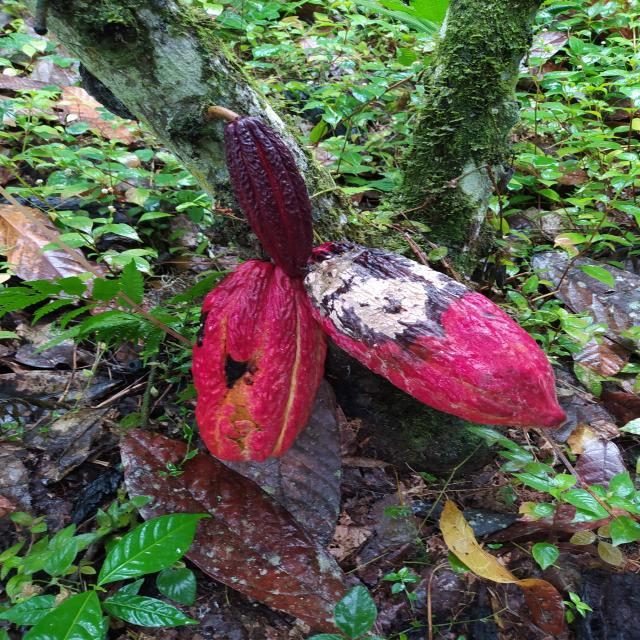Fitoftora: (191, 259, 324, 464)
Monilia: (303, 240, 566, 428)
Sana: (221, 117, 312, 274)
